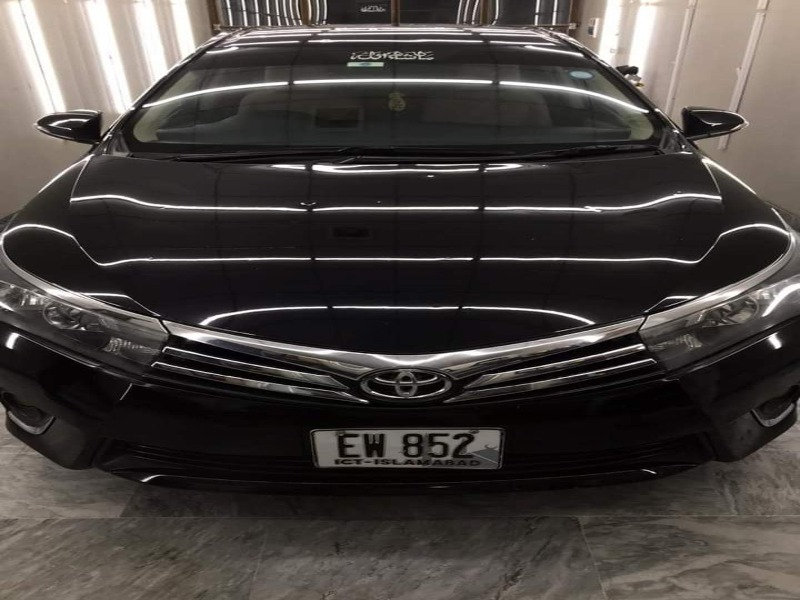License Plate: (304, 422, 511, 480)
